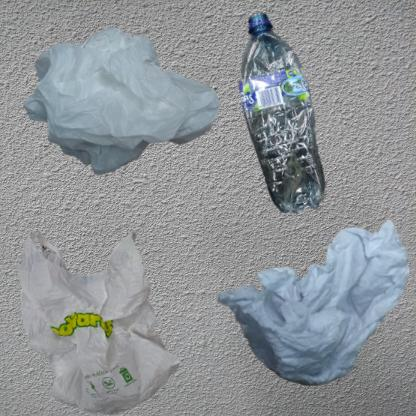bolsa: (10, 10, 249, 213), (10, 213, 192, 416)
botella: (213, 10, 369, 239)
papel: (213, 213, 412, 390)
